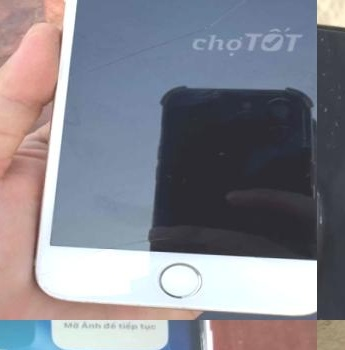scratch: (317, 15, 344, 100)
screen_defect: (78, 6, 345, 14)
